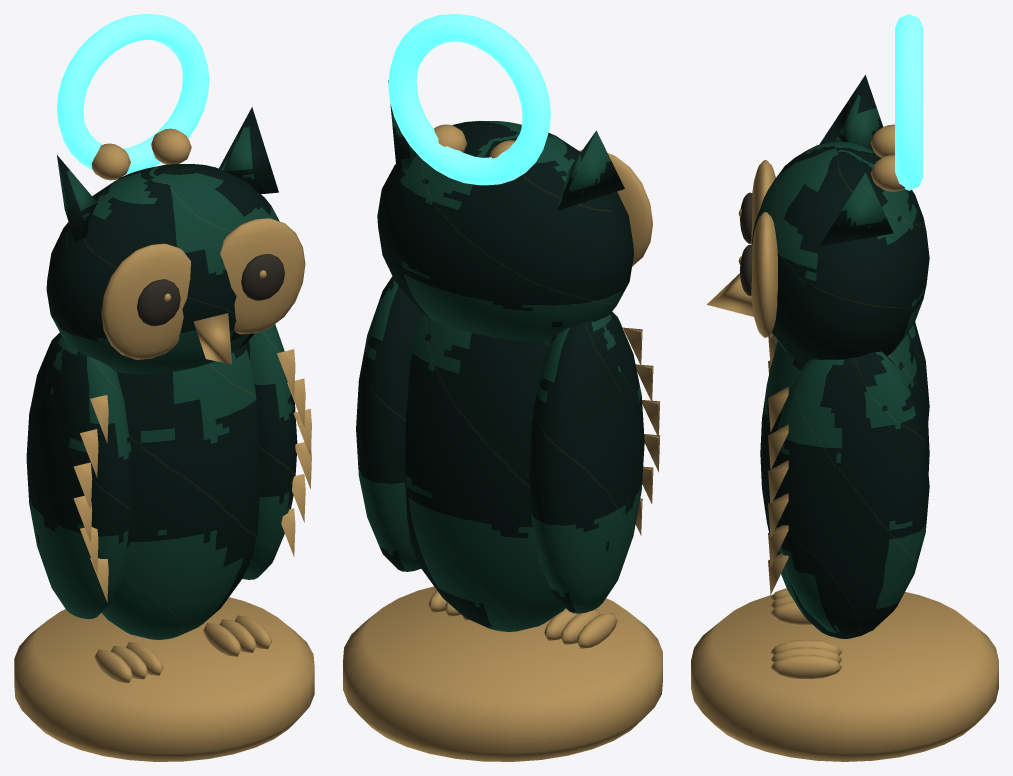
Rendered from statuette_pattern_jade.fbx.
3 views of the same model, side by side, from view 1: azimuth 30°, elevation 25°; view 2: azimuth 150°, elevation 25°; view 3: azimuth 270°, elevation 25° (orthographic). The views are drawn at different scales.
Parts seen in each view (by area): view 1: Reviewed_statuette_Body.005, TH_S_Statuette_Handle.006; view 2: Reviewed_statuette_Body.005, TH_S_Statuette_Handle.006; view 3: Reviewed_statuette_Body.005, TH_S_Statuette_Handle.006.
Boxes of the visible parts, bbox=[...] form: Reviewed_statuette_Body.005: bbox=[14, 107, 314, 761]; TH_S_Statuette_Handle.006: bbox=[57, 14, 209, 174]; Reviewed_statuette_Body.005: bbox=[343, 80, 662, 761]; TH_S_Statuette_Handle.006: bbox=[388, 14, 550, 185]; Reviewed_statuette_Body.005: bbox=[691, 75, 998, 761]; TH_S_Statuette_Handle.006: bbox=[895, 14, 923, 190].
Size of the model in its own units: 0.12 by 0.2925 by 0.12.
4 materials, 1 textured.
